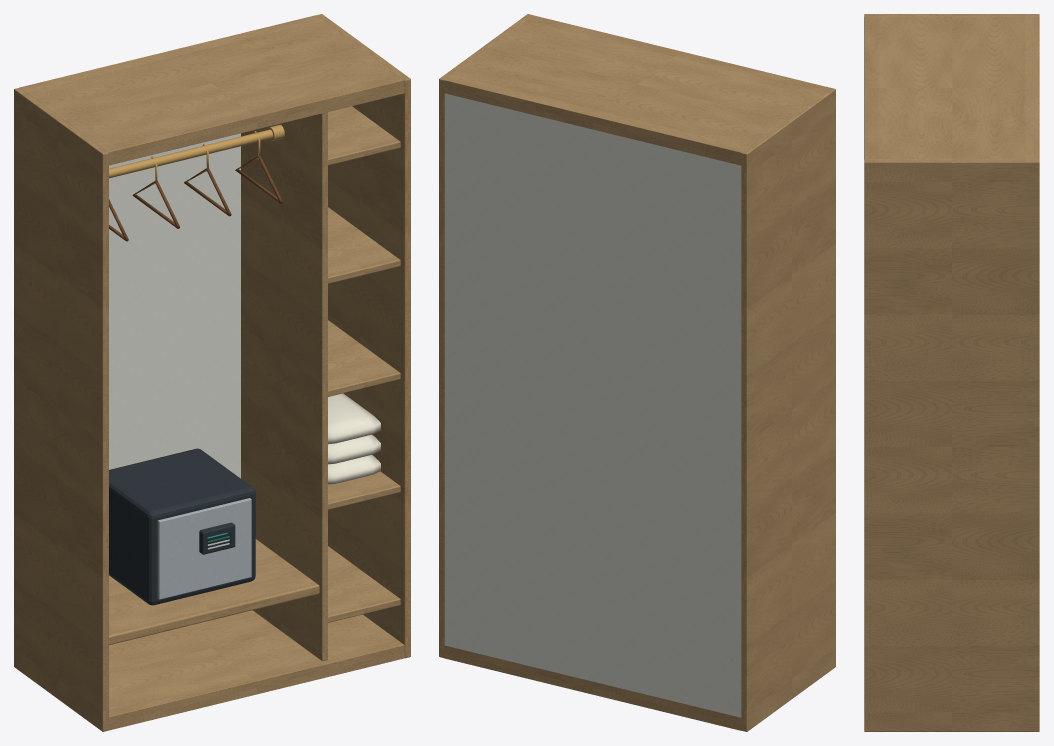
3 views of the same model, side by side, from view 1: azimuth 30°, elevation 25°; view 2: azimuth 150°, elevation 25°; view 3: azimuth 270°, elevation 25° (orthographic).
Parts seen in each view (by area): view 1: Cabinet side, Wardrobe vertical divider, Cabinet back, Cabinet top bottom.001, Cabinet side.001, Cabinet top bottom, Hotel safe, Wardrobe luggage shelf, Safe door, Wardrobe side shelf, Wardrobe side shelf.002, Wardrobe side shelf.003 (+7 smaller); view 2: Cabinet back, Cabinet side, Cabinet top bottom.001, Cabinet top bottom, Cabinet side.001; view 3: Cabinet side.001, Cabinet top bottom.001, Cabinet side.
Boxes of the visible parts, x1=… form: Cabinet side: x1=14, y1=87, x2=108, y2=731; Wardrobe vertical divider: x1=241, y1=112, x2=327, y2=661; Cabinet back: x1=109, y1=133, x2=240, y2=478; Cabinet top bottom.001: x1=20, y1=15, x2=404, y2=165; Cabinet side.001: x1=317, y1=14, x2=410, y2=658; Cabinet top bottom: x1=108, y1=610, x2=404, y2=730; Hotel safe: x1=109, y1=448, x2=255, y2=605; Wardrobe luggage shelf: x1=109, y1=539, x2=319, y2=644; Safe door: x1=157, y1=498, x2=251, y2=599; Wardrobe side shelf: x1=327, y1=546, x2=400, y2=622; Wardrobe side shelf.002: x1=327, y1=320, x2=400, y2=396; Wardrobe side shelf.003: x1=327, y1=207, x2=400, y2=283; Cabinet back: x1=444, y1=93, x2=741, y2=717; Cabinet side: x1=741, y1=87, x2=835, y2=731; Cabinet top bottom.001: x1=444, y1=15, x2=829, y2=165; Cabinet top bottom: x1=444, y1=645, x2=741, y2=730; Cabinet side.001: x1=439, y1=14, x2=532, y2=658; Cabinet side.001: x1=864, y1=159, x2=1039, y2=731; Cabinet top bottom.001: x1=864, y1=16, x2=1039, y2=159; Cabinet side: x1=864, y1=14, x2=1039, y2=159.
Size of the model in its own units: 1.2 by 2.15 by 0.6.
11 materials, 11 textured.
